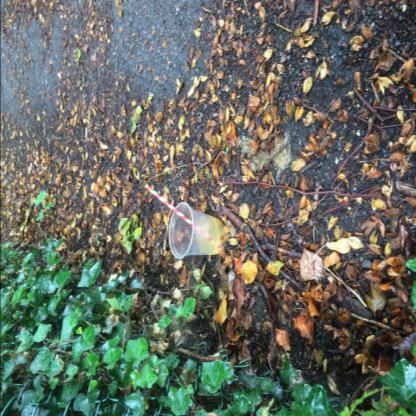Cup: (169, 202, 225, 259)
Straw: (144, 184, 192, 227)
